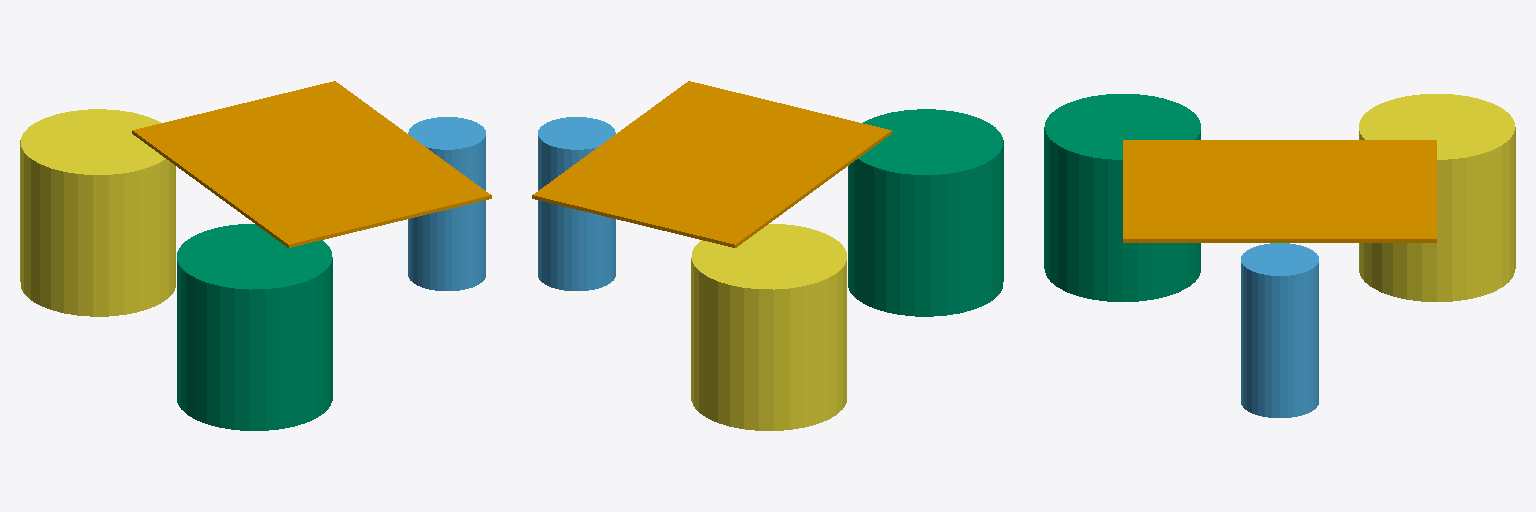
robot.urdf — calibration_object:
<robot name="calibration_object">

	<link name="checkerboard">
		<visual>
			<origin xyz="0 0 0.2025" />
			<geometry>
				<box size="0.3 0.4 0.005"/>
			</geometry>
		</visual>
		<collision>
			<origin xyz="0 0 0.2025" />
			<geometry>
				<box size="0.3 0.4 0.005"/>
			</geometry>
		</collision>
		<inertial>
			<origin xyz="0 0 0.2025" />
			<mass value="0.5" />
			<inertia ixx="1.0" ixy="0.0" ixz="0.0" iyy="1.0" iyz="0.0" izz="1.0" />
		</inertial>
	</link>
	<gazebo reference="checkerboard">
		<material>Gazebo/Red</material>
	</gazebo>

	<joint name="cylinder_1_joint" type="fixed">
		<parent link="checkerboard" />
		<child link="cylinder_1" />
		<origin xyz="0 0 0" />
	</joint>

	<link name="cylinder_1">
		<visual>
			<origin xyz="0.2 0 0.1" />
			<geometry>
				<cylinder length="0.2" radius="0.05" />
			</geometry>
		</visual>
		<collision>
			<origin xyz="0.2 0 0.1" />
			<geometry>
				<cylinder length="0.2" radius="0.05" />
			</geometry>
		</collision>
		<inertial>
			<origin xyz="0.2 0 0.1" />
			<mass value="1" />
			<inertia ixx="1.0" ixy="0.0" ixz="0.0" iyy="1.0" iyz="0.0" izz="1.0" />
		</inertial>
	</link>
	<gazebo reference="cylinder_1">
		<material>Gazebo/Green</material>
	</gazebo>

	<joint name="cylinder_2_joint" type="fixed">
		<parent link="checkerboard" />
		<child link="cylinder_2" />
		<origin xyz="0 0 0" />
	</joint>

	<link name="cylinder_2">
		<visual>
			<origin xyz="-0.2 -0.2 0.1" />
			<geometry>
				<cylinder length="0.2" radius="0.1" />
			</geometry>
		</visual>
		<collision>
			<origin xyz="-0.2 -0.2 0.1" />
			<geometry>
				<cylinder length="0.2" radius="0.1" />
			</geometry>
		</collision>
		<inertial>
			<origin xyz="-0.2 -0.2 0.1" />
			<mass value="1" />
			<inertia ixx="1.0" ixy="0.0" ixz="0.0" iyy="1.0" iyz="0.0" izz="1.0" />
		</inertial>
	</link>
	<gazebo reference="cylinder_2">
		<material>Gazebo/Blue</material>
	</gazebo>

	<joint name="cylinder_3_joint" type="fixed">
		<parent link="checkerboard" />
		<child link="cylinder_3" />
		<origin xyz="0 0 0" />
	</joint>

	<link name="cylinder_3">		
		<visual>
			<origin xyz="-0.2 0.2 0.1" />
			<geometry>
				<cylinder length="0.2" radius="0.1" />
			</geometry>
		</visual>
		<collision>
			<origin xyz="-0.2 0.2 0.1" />
			<geometry>
				<cylinder length="0.2" radius="0.1" />
			</geometry>
		</collision>
		<inertial>
			<origin xyz="-0.2 0.2 0.1" />
			<mass value="1" />
			<inertia ixx="1.0" ixy="0.0" ixz="0.0" iyy="1.0" iyz="0.0" izz="1.0" />
		</inertial>
	</link>
	<gazebo reference="cylinder_3">
		<material>Gazebo/Blue</material>
	</gazebo>

</robot>

--- What the picture shows (computed from the rendered views, not written in the file) ---
3 views of the same robot in one strip: view 1: azimuth 30°, elevation 25°; view 2: azimuth 150°, elevation 25°; view 3: azimuth 270°, elevation 25° (orthographic).
Robot: calibration_object — 4 links, 3 joints (3 fixed); root link checkerboard; default pose: every joint at zero.
Links seen in each view (by area): view 1: checkerboard, cylinder_2, cylinder_3, cylinder_1; view 2: checkerboard, cylinder_3, cylinder_2, cylinder_1; view 3: checkerboard, cylinder_2, cylinder_3, cylinder_1.
Link boxes in pixels (box(x1,y1,x2,y2)): checkerboard: box(132, 81, 491, 247); cylinder_2: box(177, 224, 332, 430); cylinder_3: box(20, 109, 175, 316); cylinder_1: box(408, 117, 485, 290); checkerboard: box(532, 81, 891, 247); cylinder_3: box(691, 224, 846, 430); cylinder_2: box(848, 109, 1003, 316); cylinder_1: box(538, 117, 615, 290); checkerboard: box(1123, 140, 1436, 242); cylinder_2: box(1044, 94, 1200, 301); cylinder_3: box(1359, 94, 1515, 301); cylinder_1: box(1241, 243, 1318, 417).
Size in the robot's own frame: 0.55 by 0.6 by 0.205 metres.
Geometry: primitives only (box / cylinder / sphere), no mesh files.